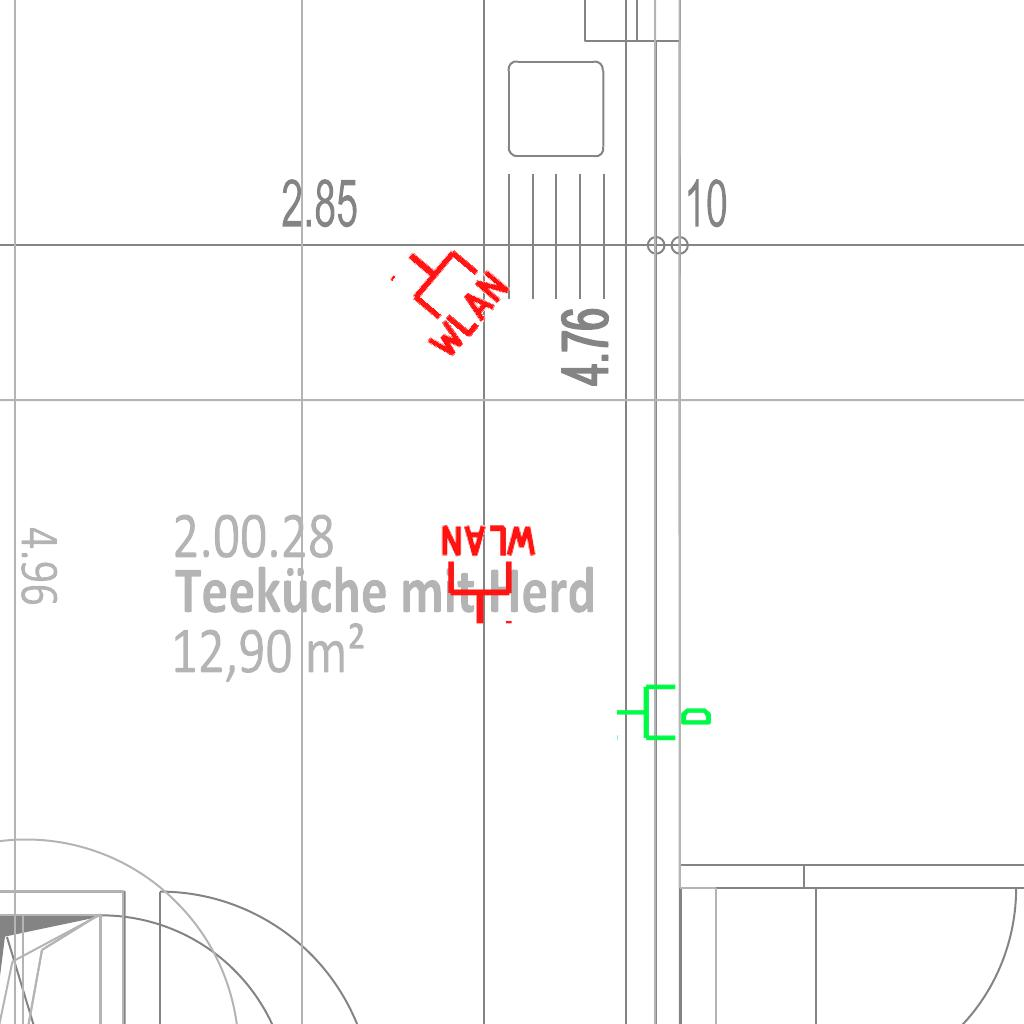Datenanschluss_einfach: (614, 676, 714, 745)
WLAN: (367, 219, 516, 367), (437, 523, 541, 628)
